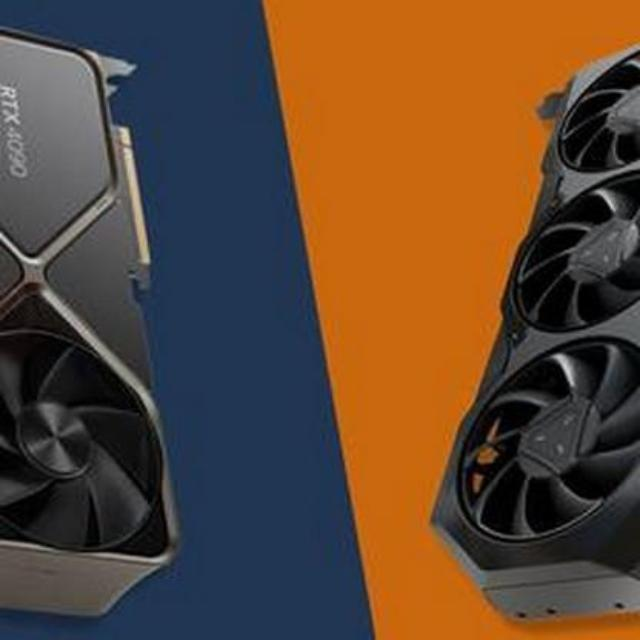GPU: (428, 26, 638, 640), (0, 0, 186, 640)
